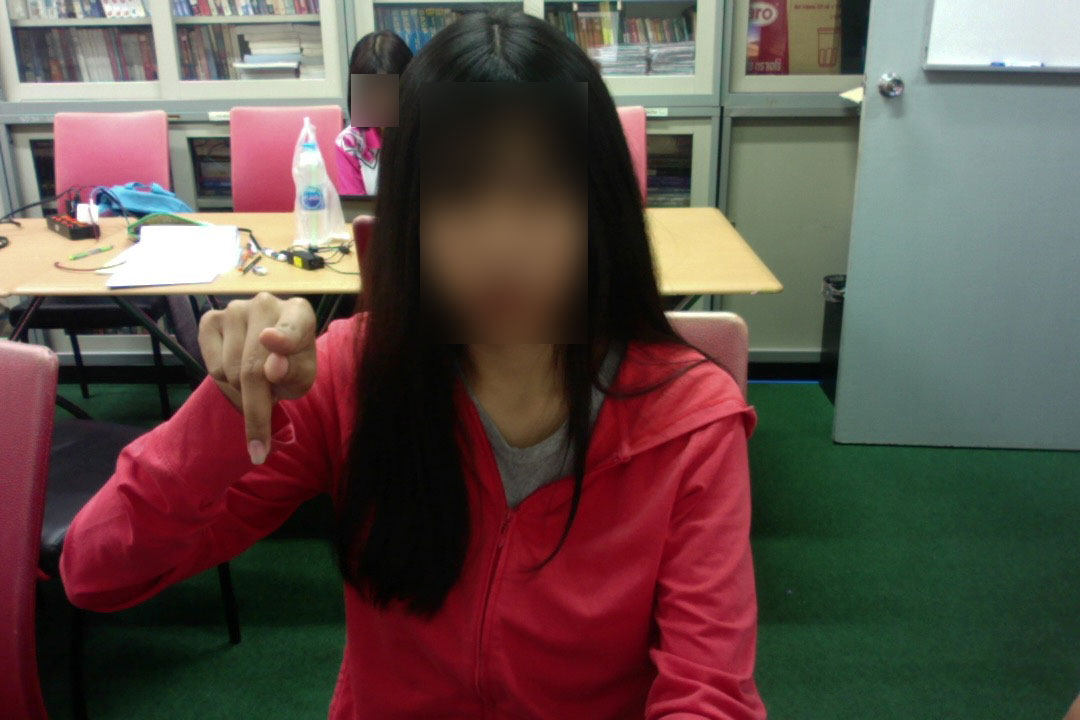por: (190, 294, 331, 471)
